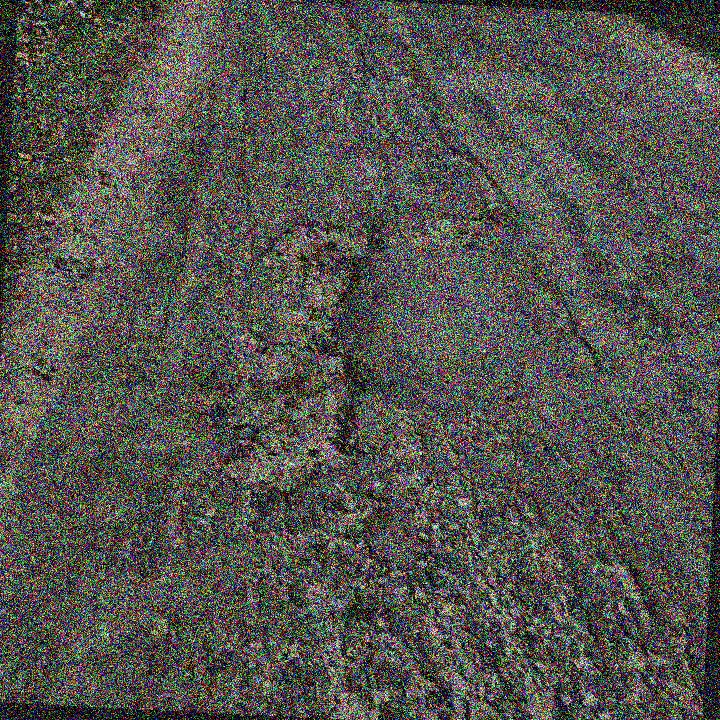pothole: (203, 333, 373, 505), (252, 211, 388, 327)
